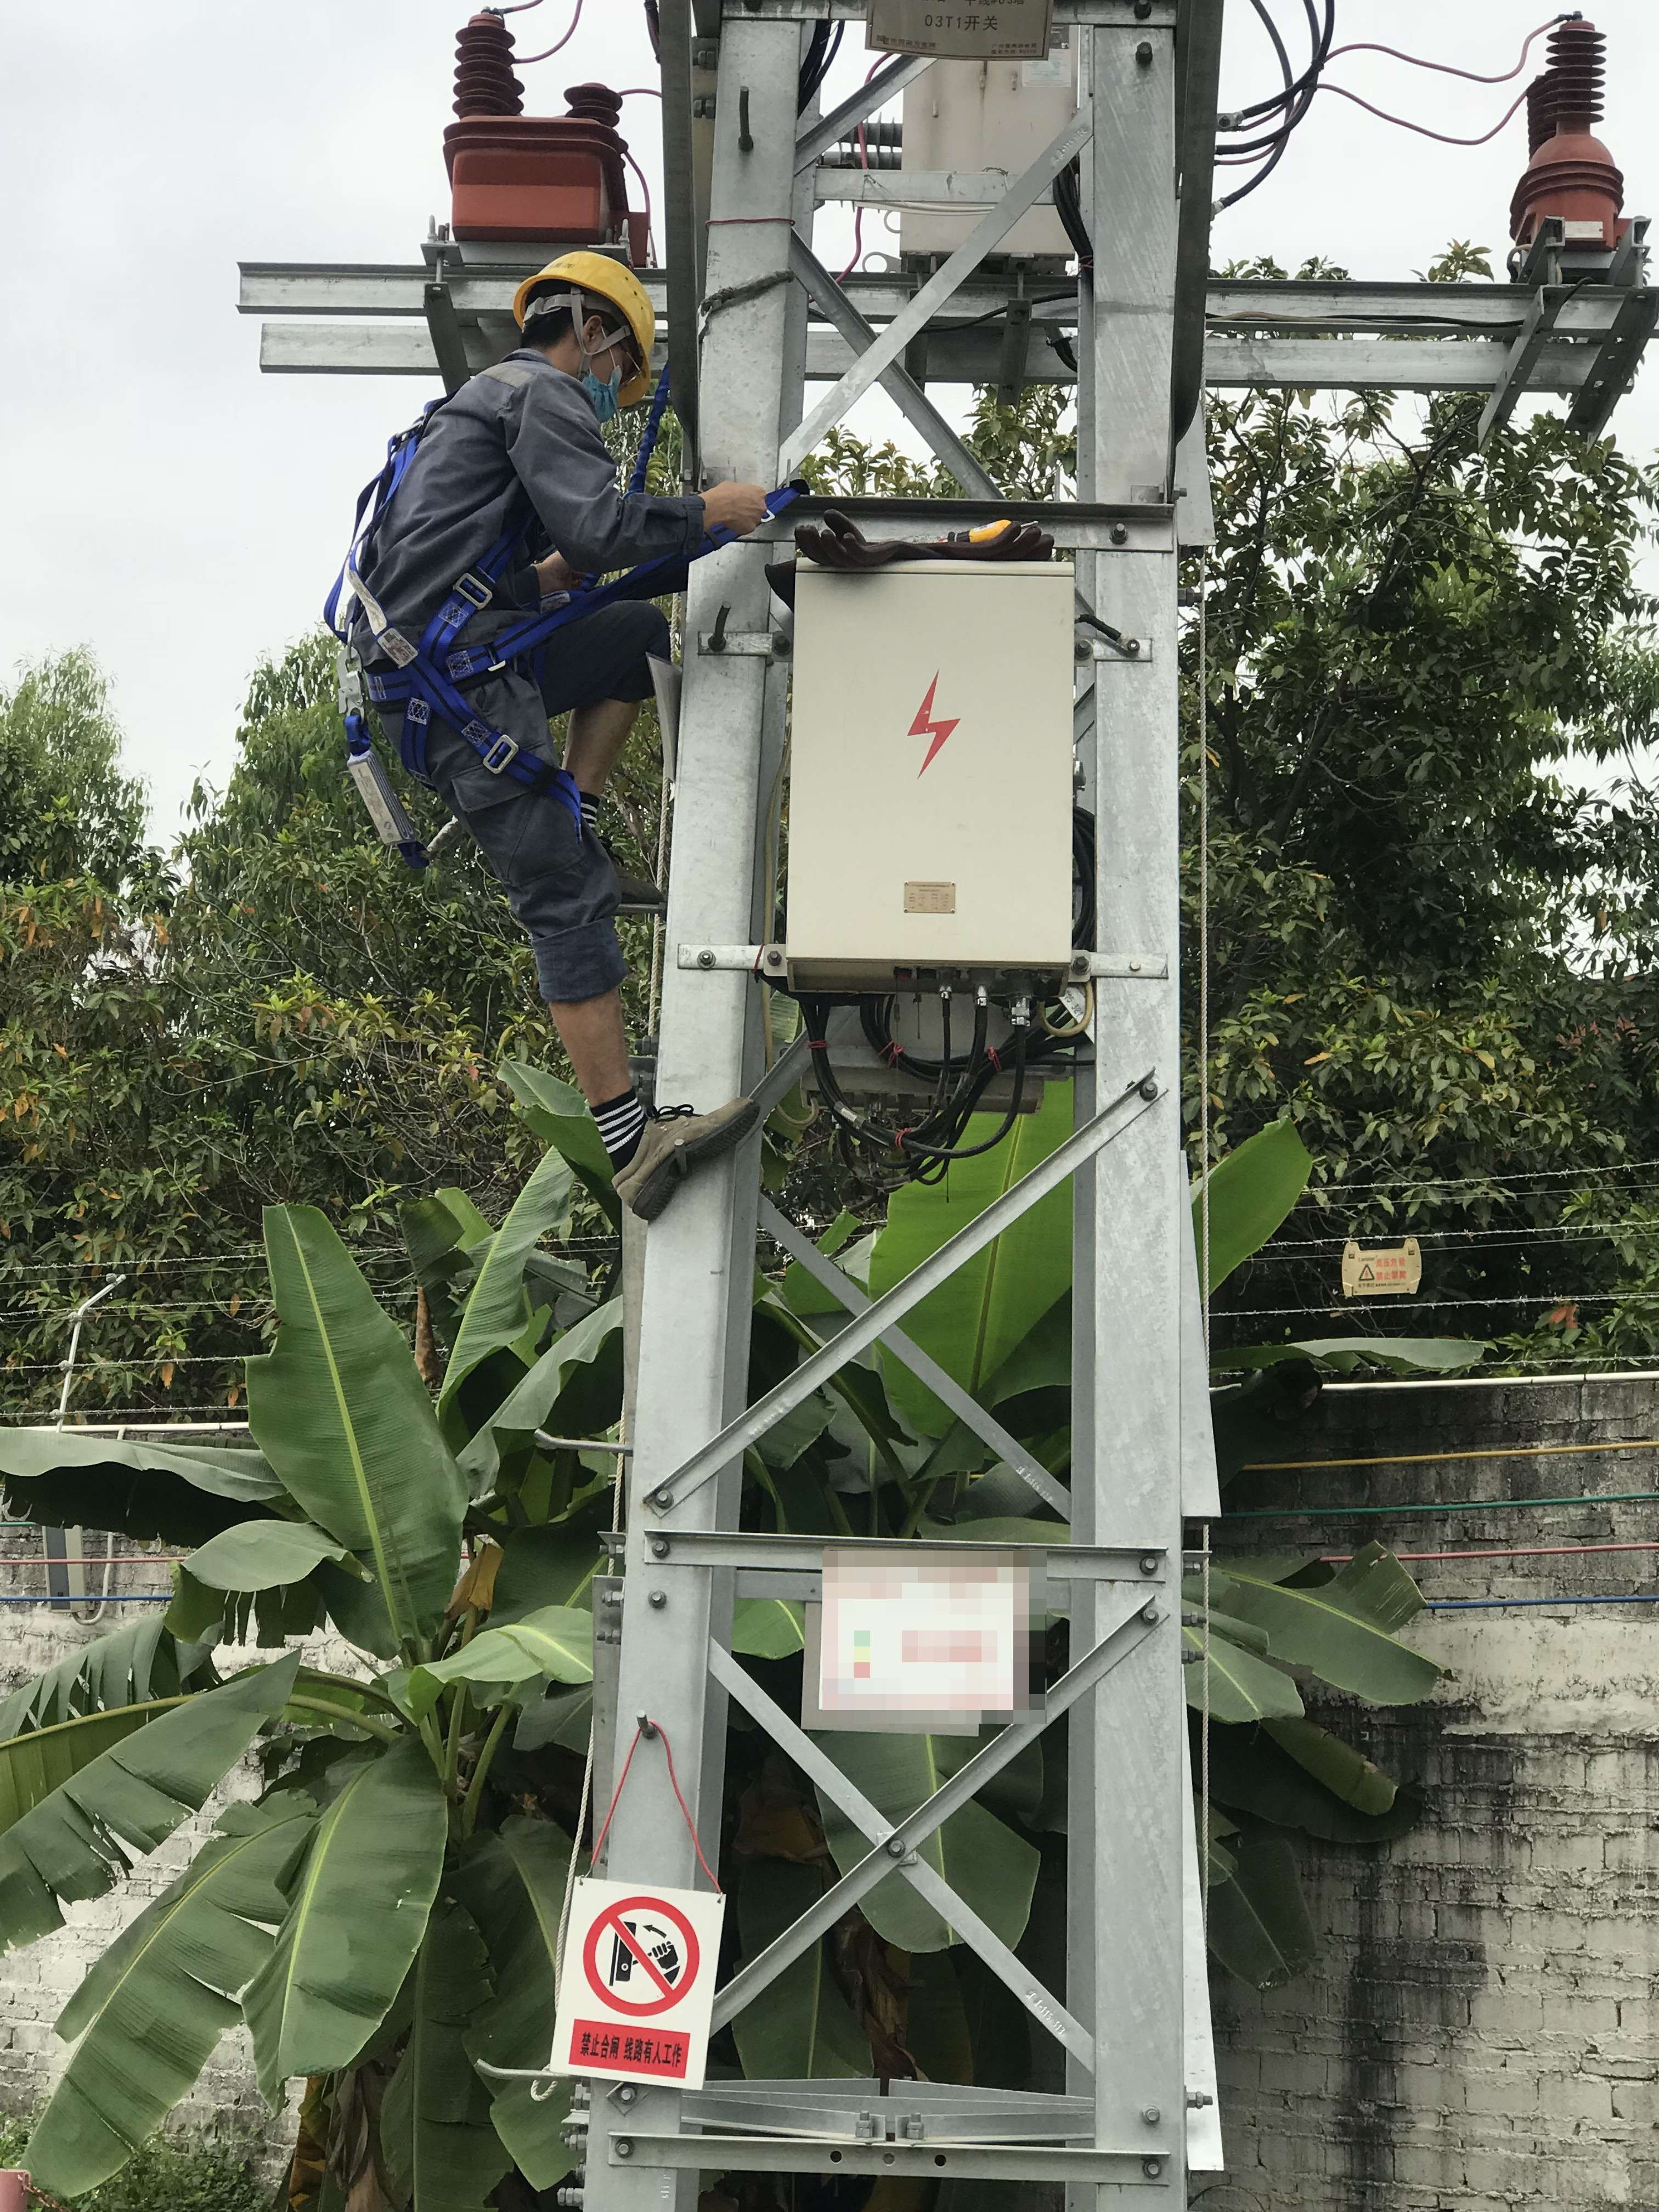downsuit: (371, 604, 673, 1000)
upsuit: (326, 334, 713, 646)
wrongbottom: (532, 930, 659, 1125)
